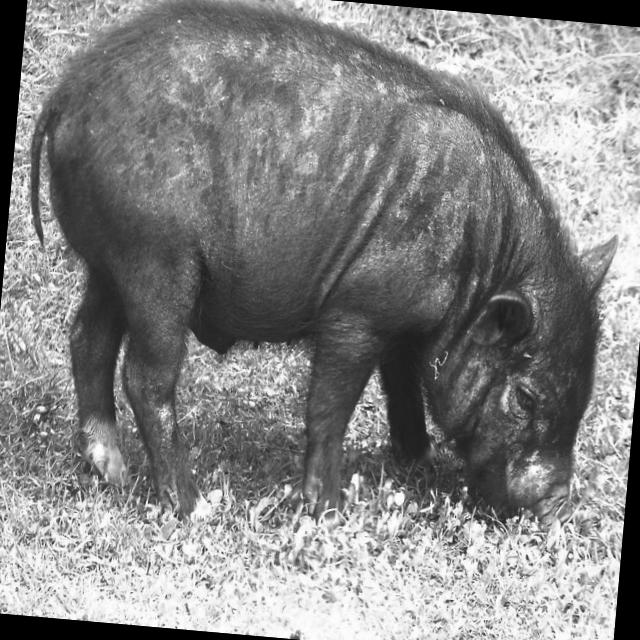pig: (30, 0, 617, 522)
